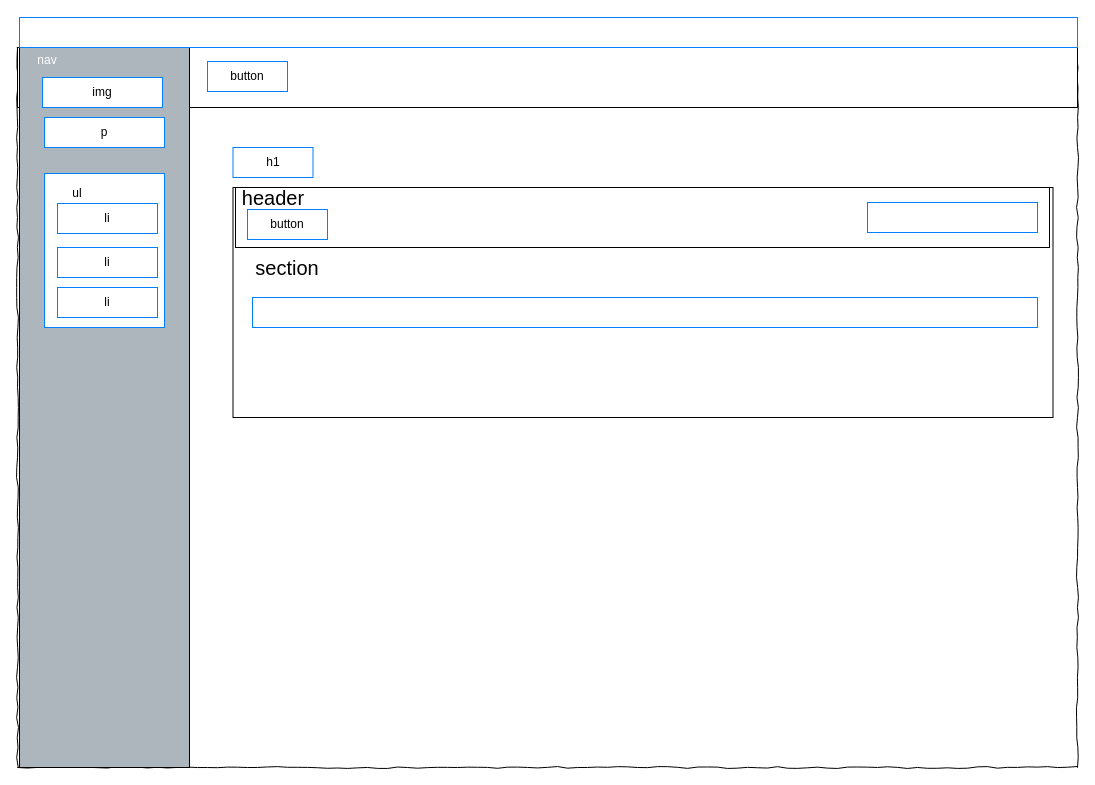
Some shapes in this 1095 by 785 pixel diagram are drawn without their labels. Here are the shapes that lost their labels. From the top down, the centre of each, then its label:
At [548,32]: "head".
At [952,217]: "input".
At [645,312]: "table".
